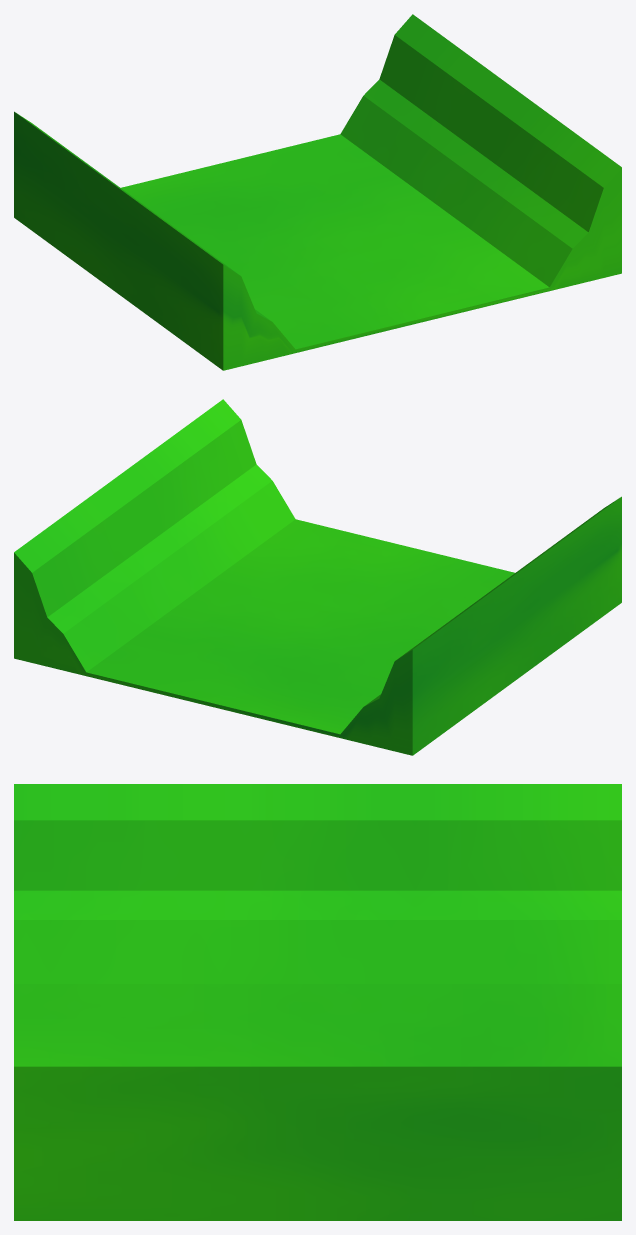
Rendered from stageGraunod.obj.
The picture shows the model from 3 angles, top to bottom: view 1: azimuth 30°, elevation 25°; view 2: azimuth 150°, elevation 25°; view 3: azimuth 270°, elevation 25°; orthographic projection. The views are drawn at different scales.
Visible parts, largest first — view 1: 立方体; view 2: 立方体; view 3: 立方体.
Part boxes in pixels (x1,y1,x2,y2): 立方体: (14, 14, 621, 370); 立方体: (14, 399, 621, 755); 立方体: (14, 784, 621, 1220).
Size of the model in its own units: 220 by 56.02 by 200.
1 material, 1 textured.
